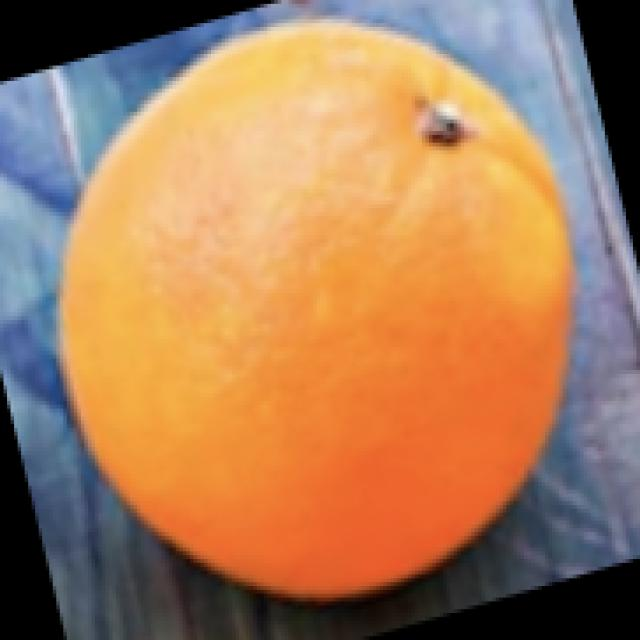matang: (63, 25, 572, 609)
